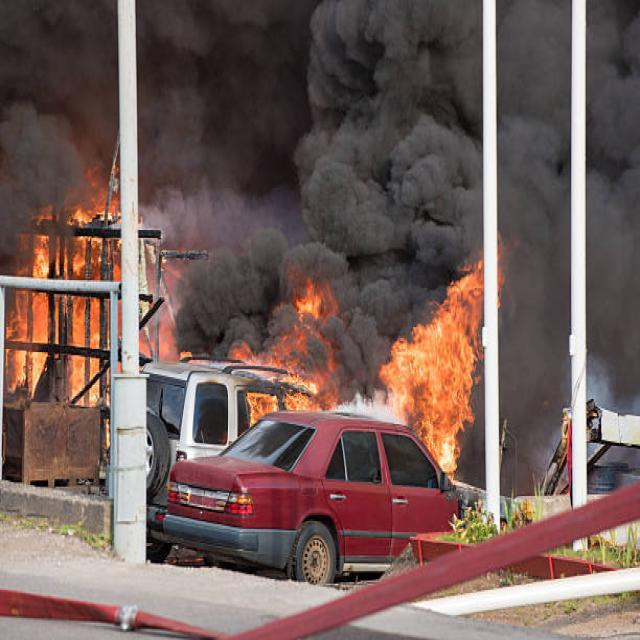Fire: (10, 206, 117, 400), (388, 252, 489, 418), (251, 261, 352, 408), (424, 402, 474, 470)
Smoke: (139, 3, 481, 333), (497, 0, 568, 415), (0, 3, 110, 235), (591, 1, 640, 388)
